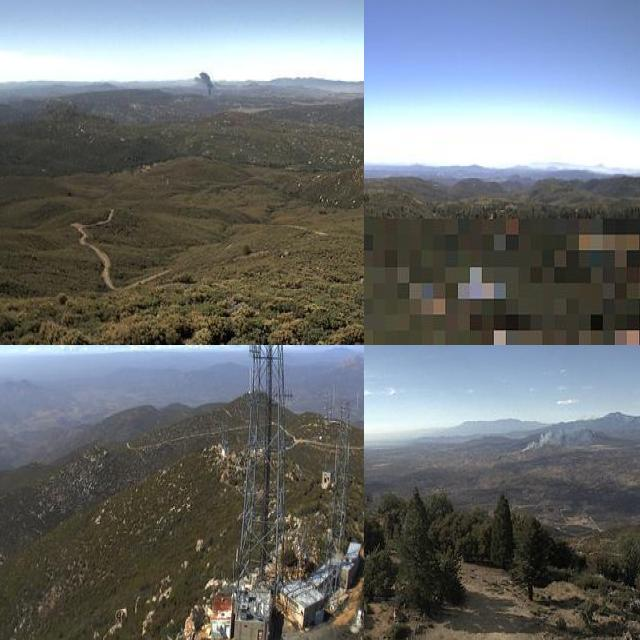smoke: (512, 424, 585, 458), (191, 65, 217, 102)
